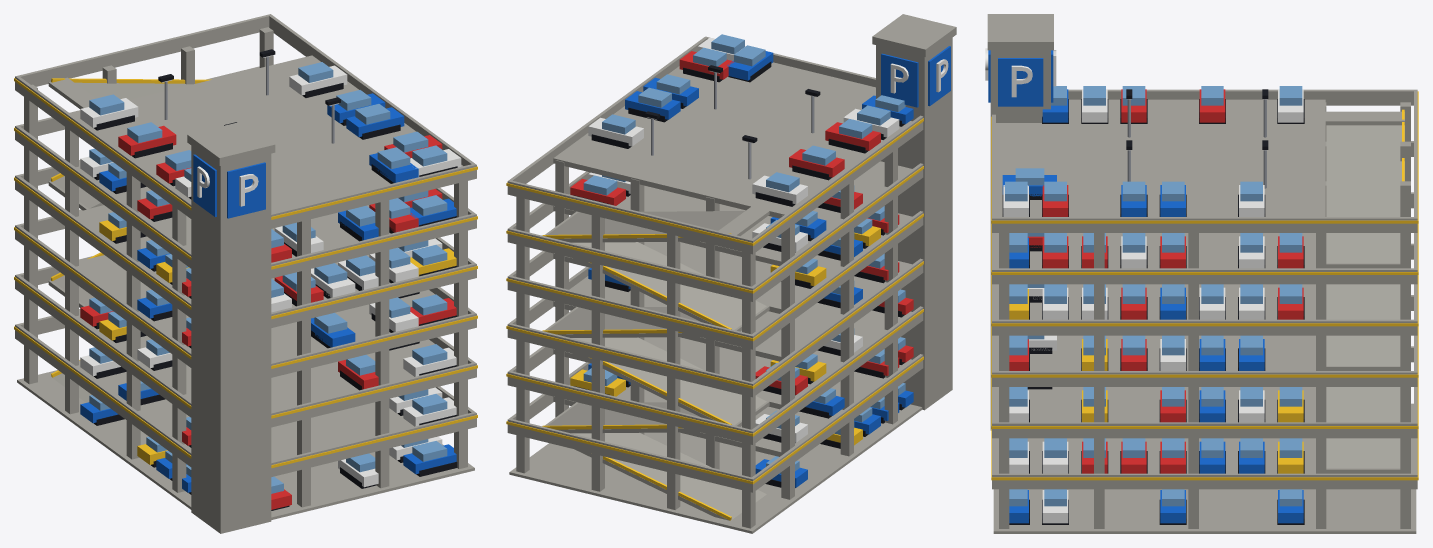
The model's file is Skyline_Parking.fbx.
3 views of the same model, side by side, from view 1: azimuth 30°, elevation 25°; view 2: azimuth 150°, elevation 25°; view 3: azimuth 270°, elevation 25° (orthographic). The views are drawn at different scales.
Visible parts, largest first — view 1: Concrete.002, Window.003, Yellow, White.002, Blue, Red, Dark.003; view 2: Concrete.002, Yellow, Window.003, Blue, Dark.003, Red, White.002; view 3: Concrete.002, Window.003, Yellow, Blue, White.002, Red, Dark.003, Metal.003.
Part boxes in pixels (x1,y1,x2,y2): Concrete.002: [15, 14, 476, 533]; Window.003: [89, 62, 447, 493]; Yellow: [14, 78, 477, 468]; White.002: [80, 55, 461, 487]; Blue: [80, 93, 456, 492]; Red: [80, 125, 456, 509]; Dark.003: [93, 49, 457, 510]; Concrete.002: [507, 14, 956, 533]; Yellow: [506, 118, 923, 520]; Window.003: [583, 34, 905, 473]; Blue: [588, 46, 950, 487]; Dark.003: [574, 61, 904, 487]; Red: [570, 51, 913, 394]; White.002: [588, 37, 948, 442]; Concrete.002: [987, 14, 1417, 533]; Window.003: [1005, 86, 1302, 506]; Yellow: [991, 91, 1418, 480]; Blue: [988, 50, 1303, 523]; White.002: [985, 48, 1303, 523]; Red: [1009, 89, 1303, 473]; Dark.003: [1002, 89, 1304, 524]; Metal.003: [1127, 99, 1266, 188].
Size of the model in its own units: 41.42 by 57.2 by 57.42.
